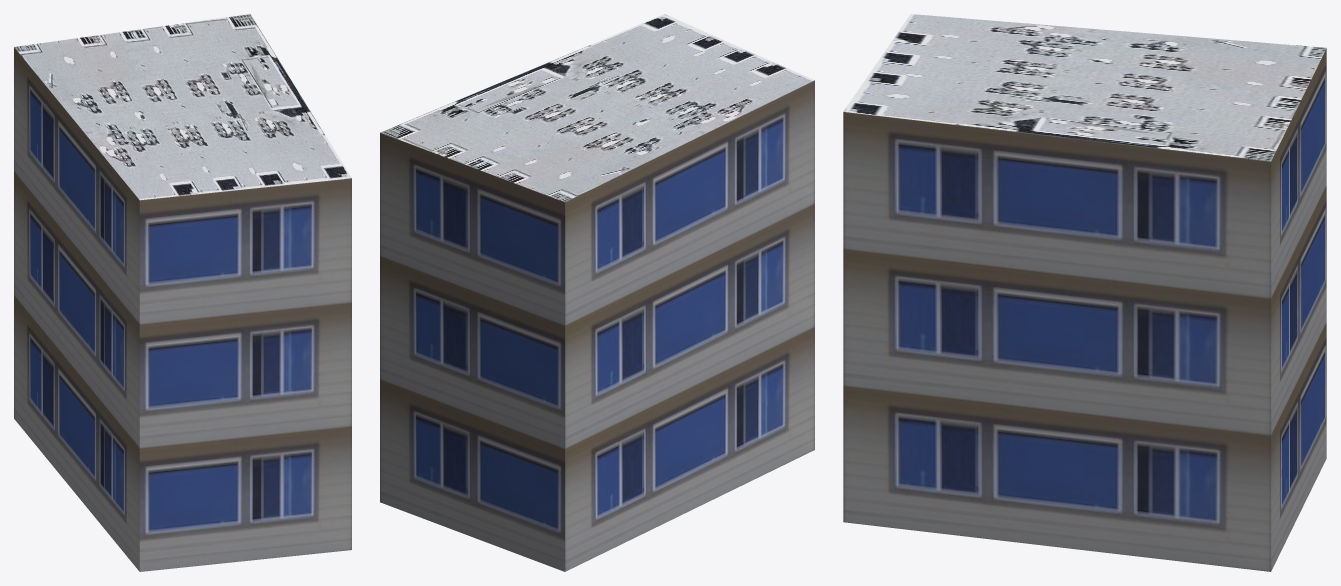
Rendered from ResTex__392.fbx.
3 views of the same model, side by side, from view 1: azimuth 30°, elevation 25°; view 2: azimuth 150°, elevation 25°; view 3: azimuth 270°, elevation 25° (orthographic). The views are drawn at different scales.
Visible parts, largest first — view 1: CityEngineMaterial_23_m, CityEngineMaterial_2_m; view 2: CityEngineMaterial_23_m, CityEngineMaterial_2_m; view 3: CityEngineMaterial_23_m, CityEngineMaterial_2_m.
Boxes of the visible parts, x1=… form: CityEngineMaterial_23_m: x1=14, y1=47, x2=351, y2=571; CityEngineMaterial_2_m: x1=14, y1=14, x2=351, y2=200; CityEngineMaterial_23_m: x1=380, y1=80, x2=814, y2=571; CityEngineMaterial_2_m: x1=380, y1=14, x2=814, y2=201; CityEngineMaterial_23_m: x1=843, y1=48, x2=1326, y2=571; CityEngineMaterial_2_m: x1=843, y1=14, x2=1326, y2=161.
Bounding box in the file's own units: 6.94 × 9 × 9.61.
2 materials, 2 textured.
